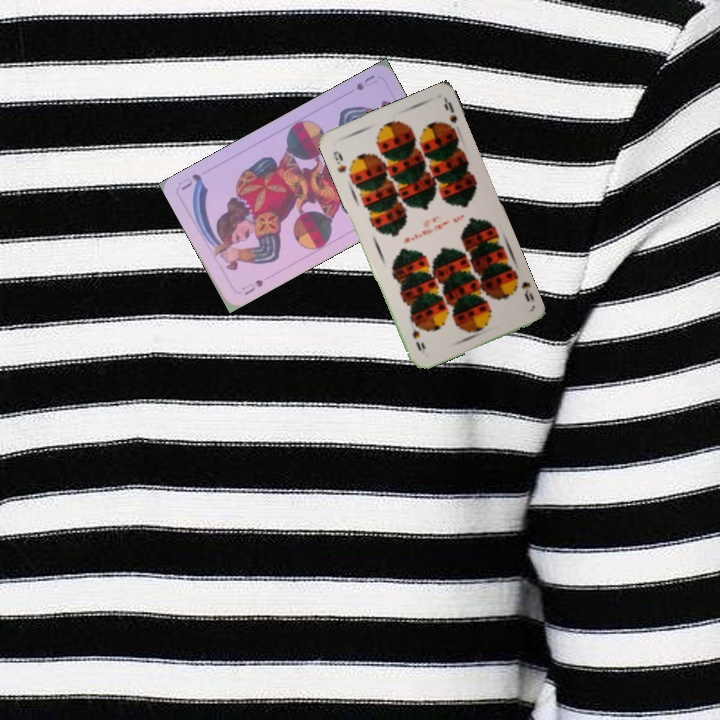S9: (329, 147, 349, 175), (517, 277, 536, 304)
SU: (237, 275, 266, 298), (352, 70, 380, 93)
